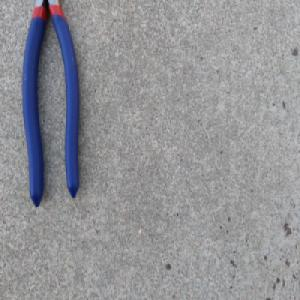Pliers: (19, 0, 80, 207)
